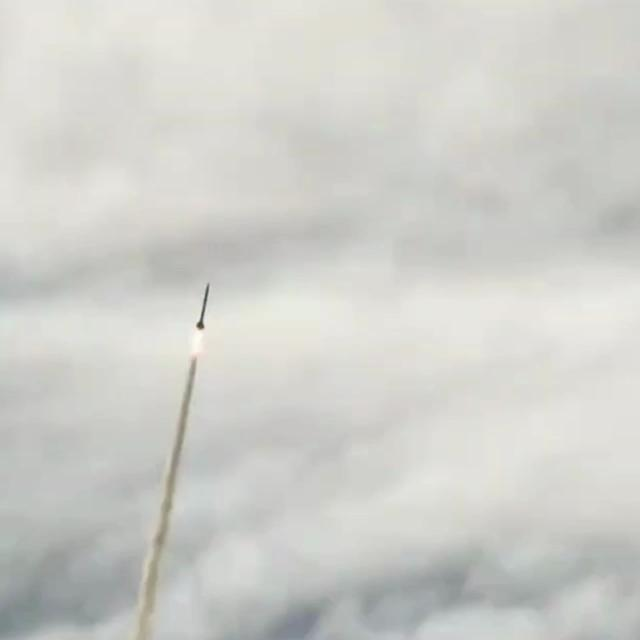rocket: (197, 283, 211, 329)
smoke_trail_with_rocket: (131, 284, 211, 640)
